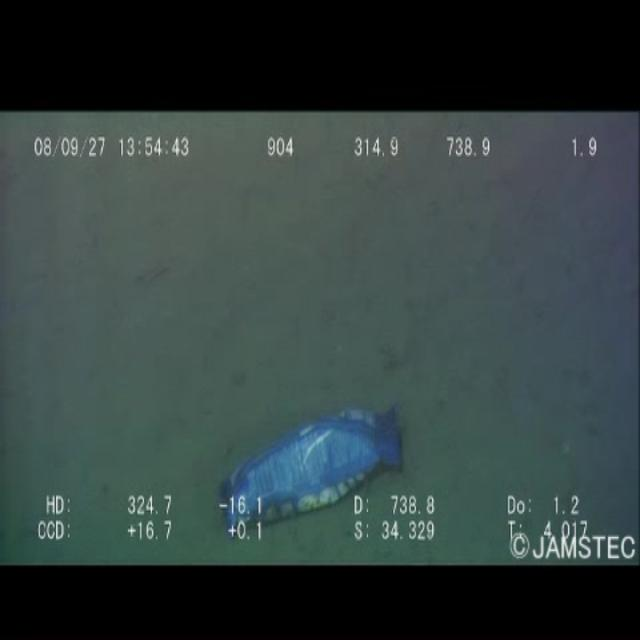Litter: (208, 391, 404, 547)
